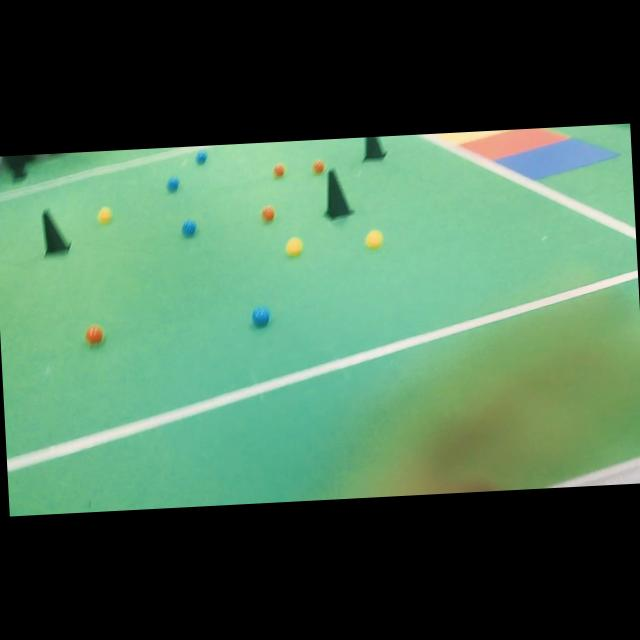ball: (86, 324, 104, 345), (252, 307, 269, 327), (286, 237, 303, 256), (366, 230, 382, 248), (181, 219, 196, 236), (166, 176, 180, 193), (262, 205, 276, 221), (98, 208, 112, 224), (312, 160, 326, 174), (195, 150, 208, 165), (274, 163, 286, 177)
goal: (497, 139, 617, 179), (462, 128, 568, 160), (434, 130, 510, 145)
